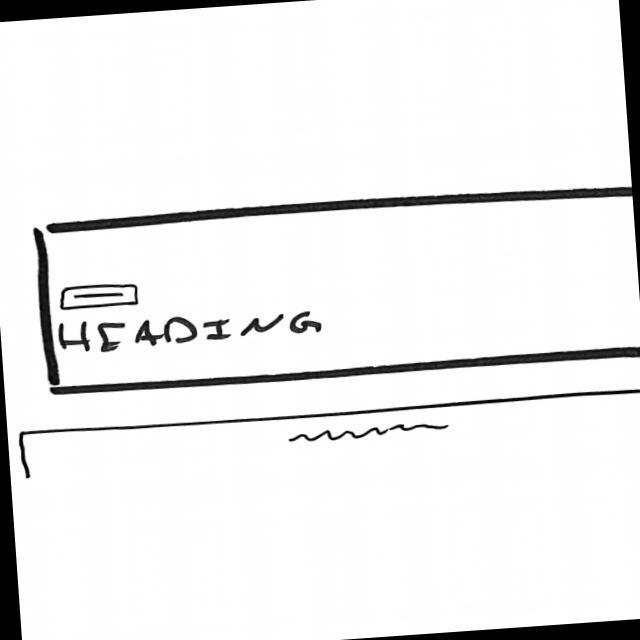container: (29, 178, 640, 401)
icon-button: (55, 278, 146, 313)
label: (55, 301, 325, 361)
text: (285, 417, 452, 451)
